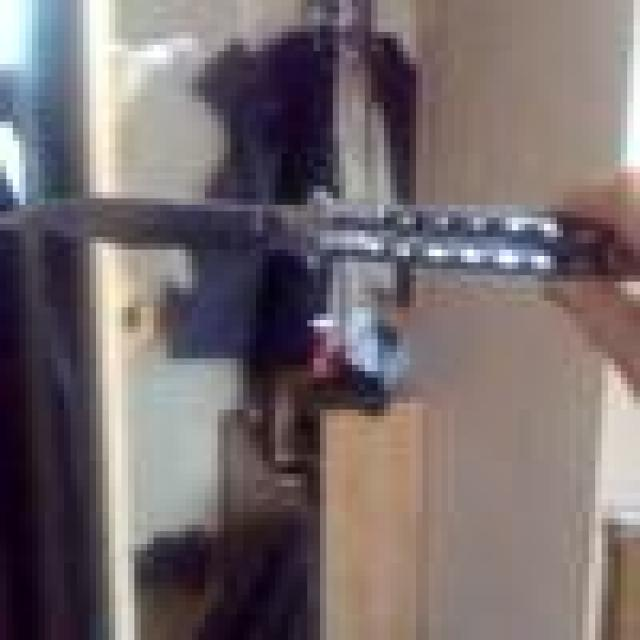weapon: (0, 166, 634, 320)
